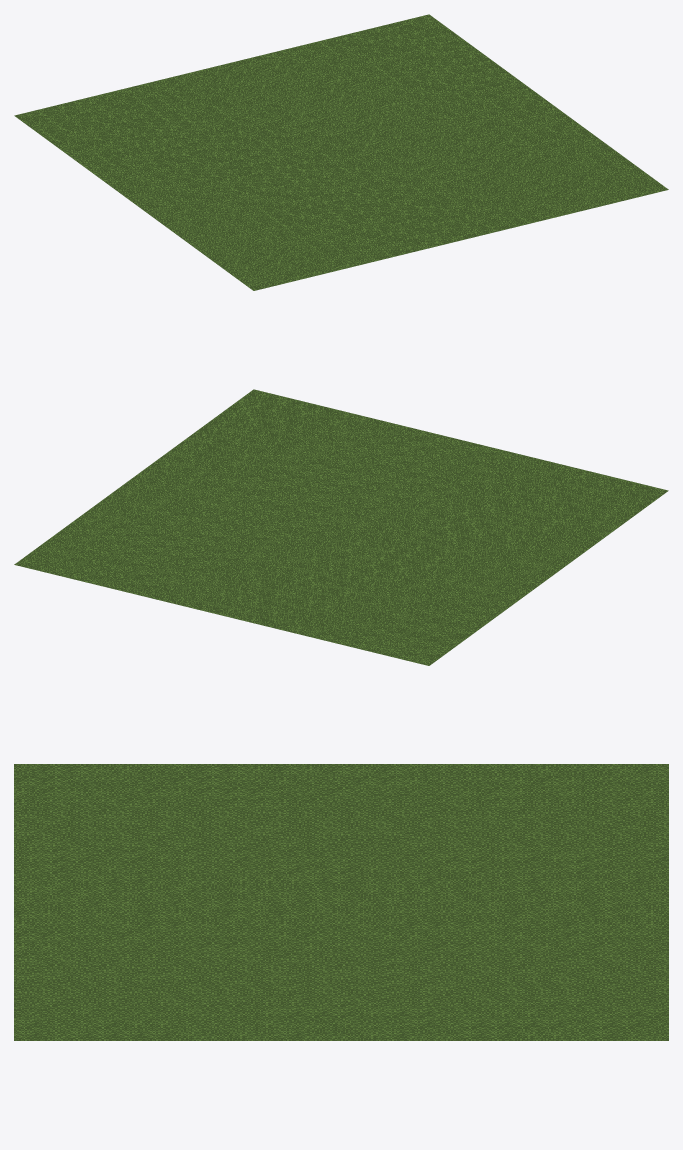
Rendered from chunk125-25-lvl-1-transformed.glb.
3 renders of one model, top to bottom at view 1: azimuth 30°, elevation 25°; view 2: azimuth 150°, elevation 25°; view 3: azimuth 270°, elevation 25°, orthographic. The views are drawn at different scales.
Parts seen in each view (by area): view 1: Grass_Block; view 2: Grass_Block; view 3: Grass_Block.
Boxes of the visible parts, x1,y1,x2,y2 form: Grass_Block: [14, 14, 668, 290]; Grass_Block: [14, 389, 668, 665]; Grass_Block: [14, 764, 668, 1040].
Size of the model in its own units: 25 by 4 by 25.
2 materials, 2 textured.
